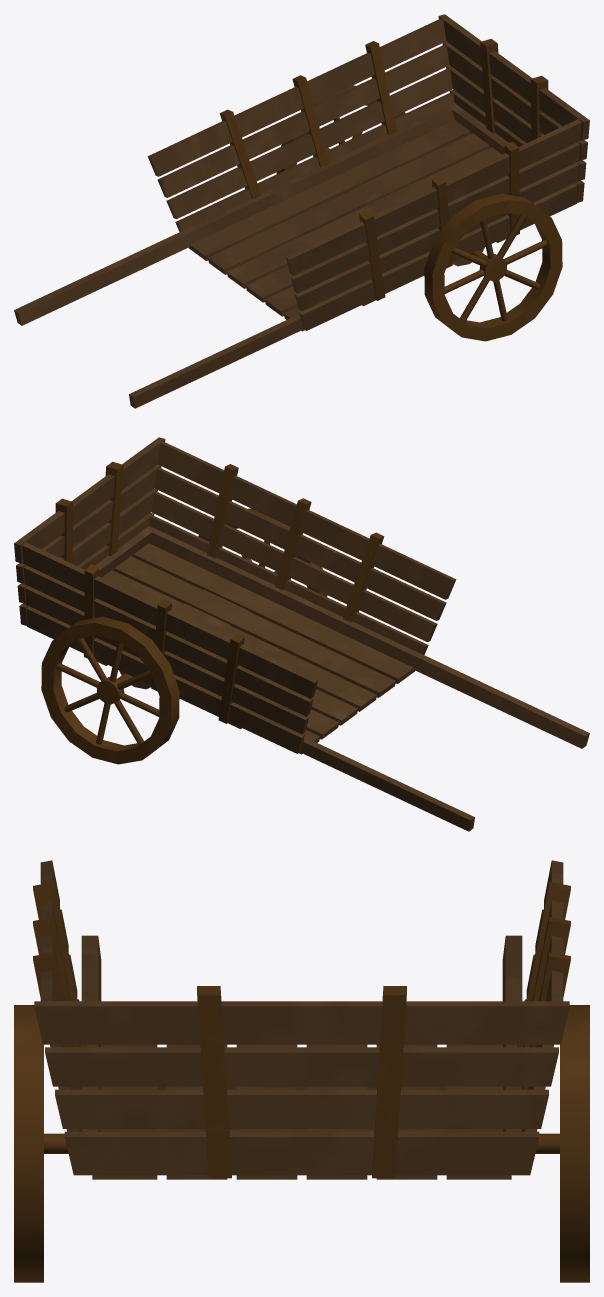
File: WoodenTrolley1.fbx
3 renders of one model, top to bottom at view 1: azimuth 30°, elevation 25°; view 2: azimuth 150°, elevation 25°; view 3: azimuth 270°, elevation 25°, orthographic. The views are drawn at different scales.
Visible parts, largest first — view 1: WoodenTrolley1; view 2: WoodenTrolley1; view 3: WoodenTrolley1.
Part boxes in pixels (x1,y1,x2,y2): WoodenTrolley1: (14, 14, 589, 408); WoodenTrolley1: (14, 437, 589, 831); WoodenTrolley1: (14, 860, 589, 1282).
Bounding box in the file's own units: 180 × 75.46 × 108.
1 material, 1 textured.
